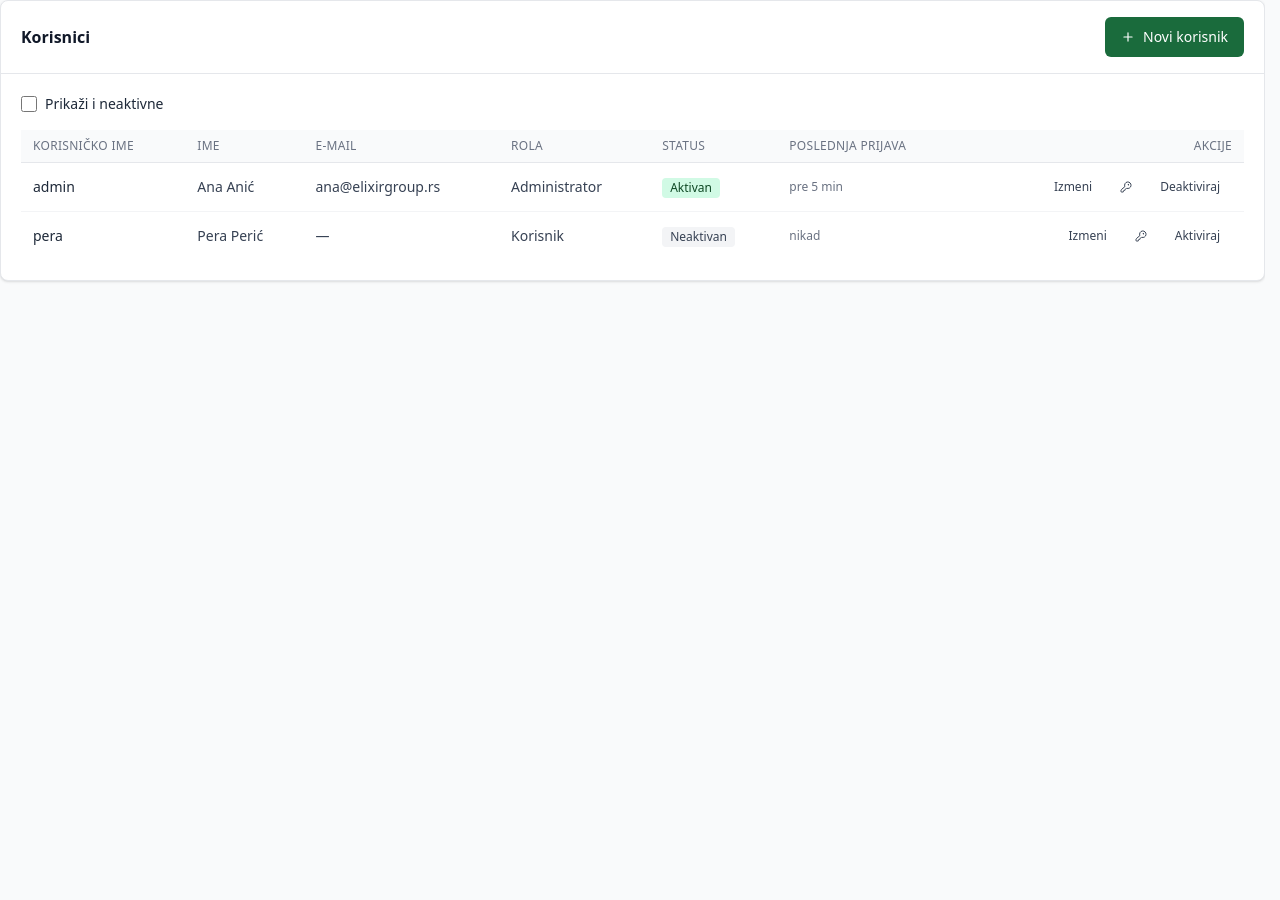
Test: KorisniciPage › „Novi korisnik" otvara formu, a uspešno kreiranje šalje POST i prikazuje toast
Expected: the text "Ana Anić" is shown, [185, 162, 303, 212]
Step 1. Click the button "Novi korisnik" → (1174, 37), box [1105, 17, 1244, 57]
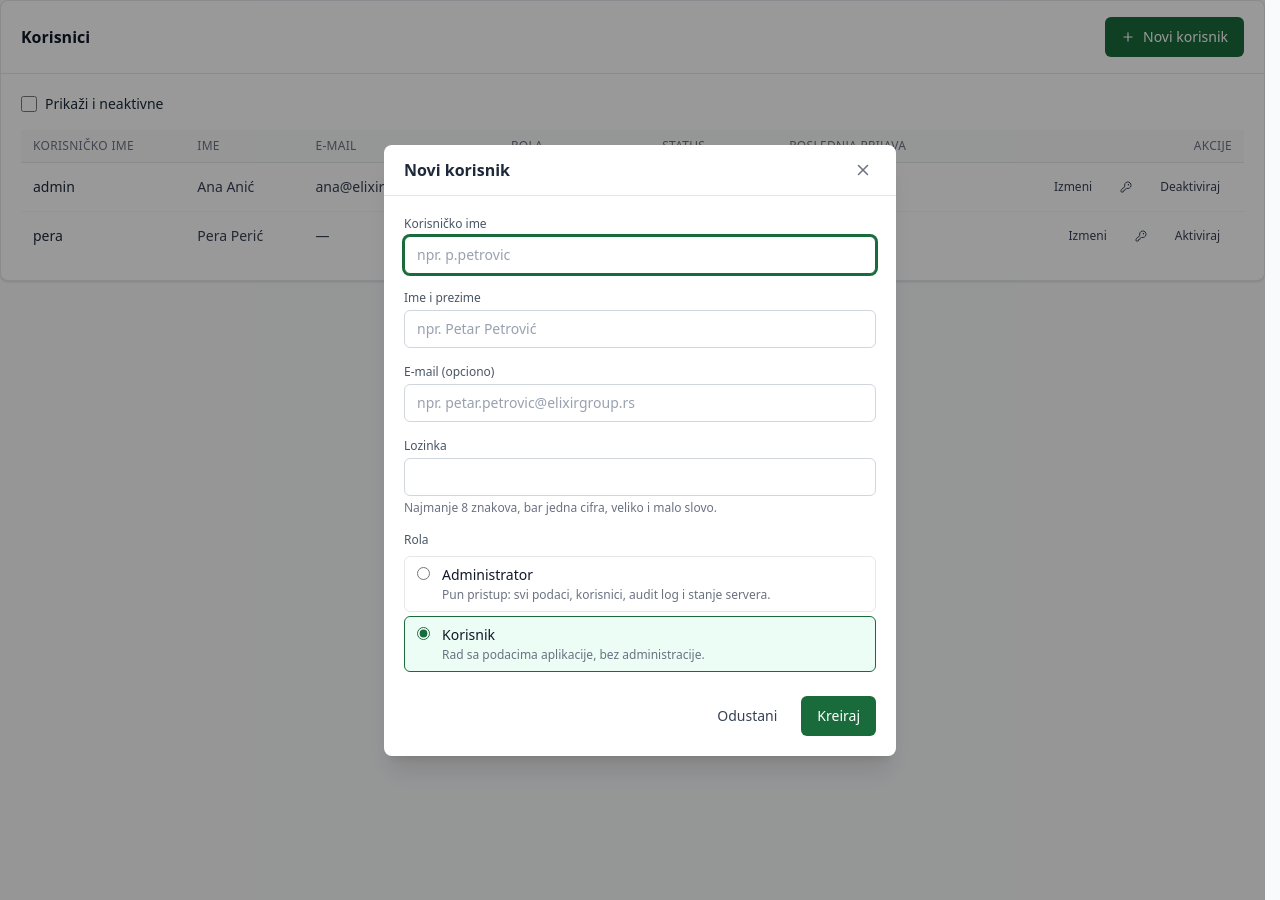
Step 2. Type "mika" into the field labelled "Korisničko ime" → (640, 254), box [404, 236, 876, 274]
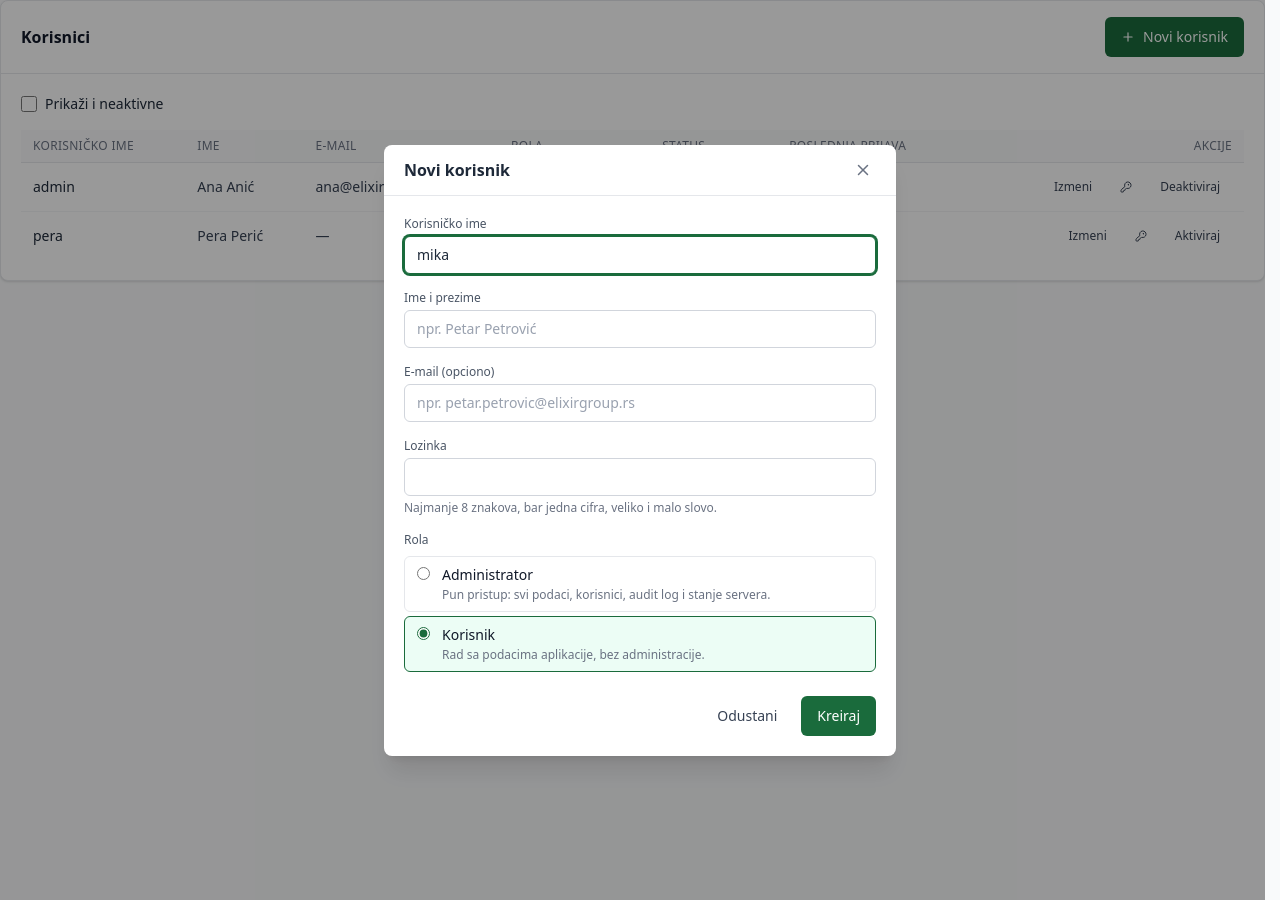
Step 3. Type "Mika Mikić" into the field labelled "Ime i prezime" → (640, 328), box [404, 310, 876, 348]
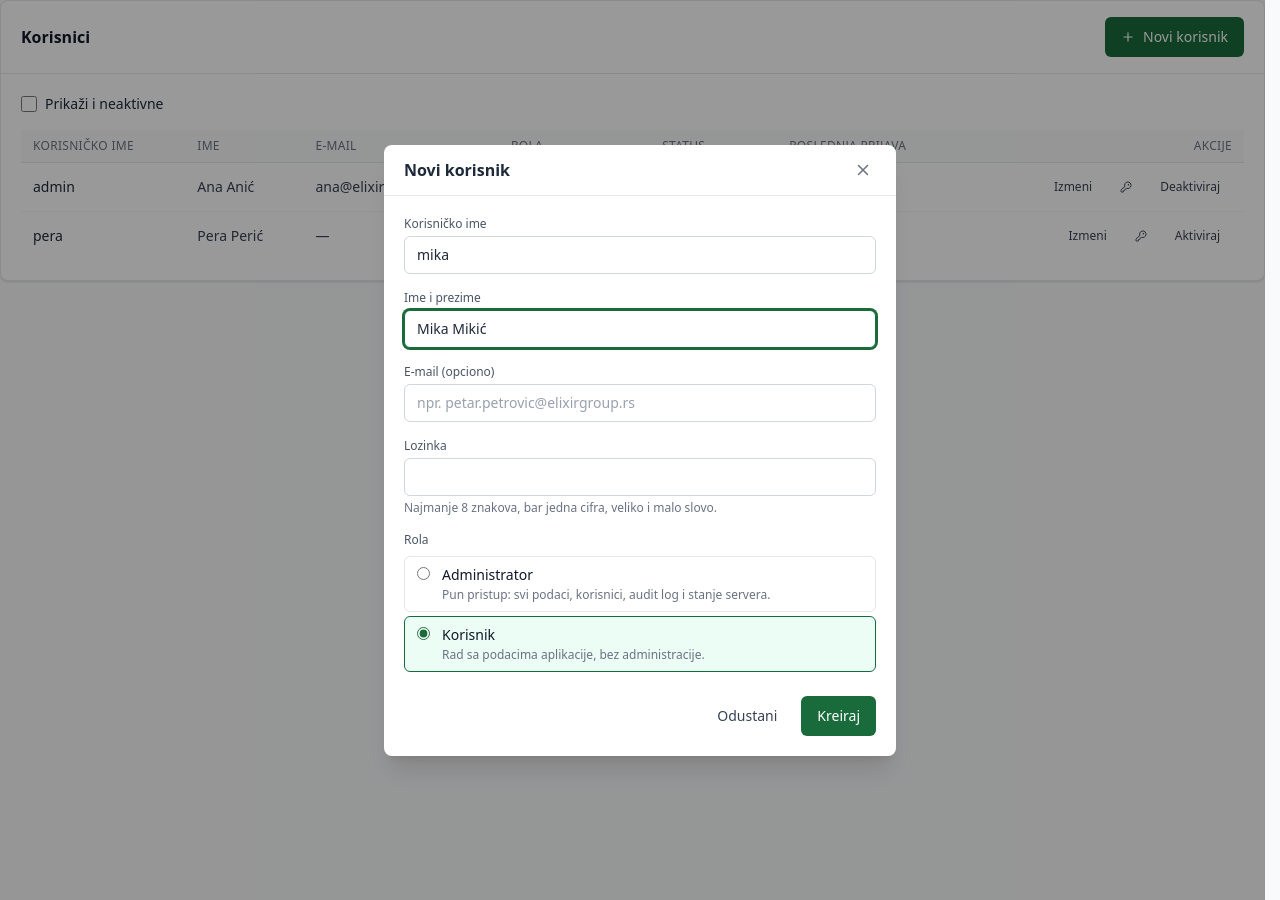
Step 4. Type "Lozinka12" into the password field labelled "Lozinka" → (640, 476), box [404, 458, 876, 496]
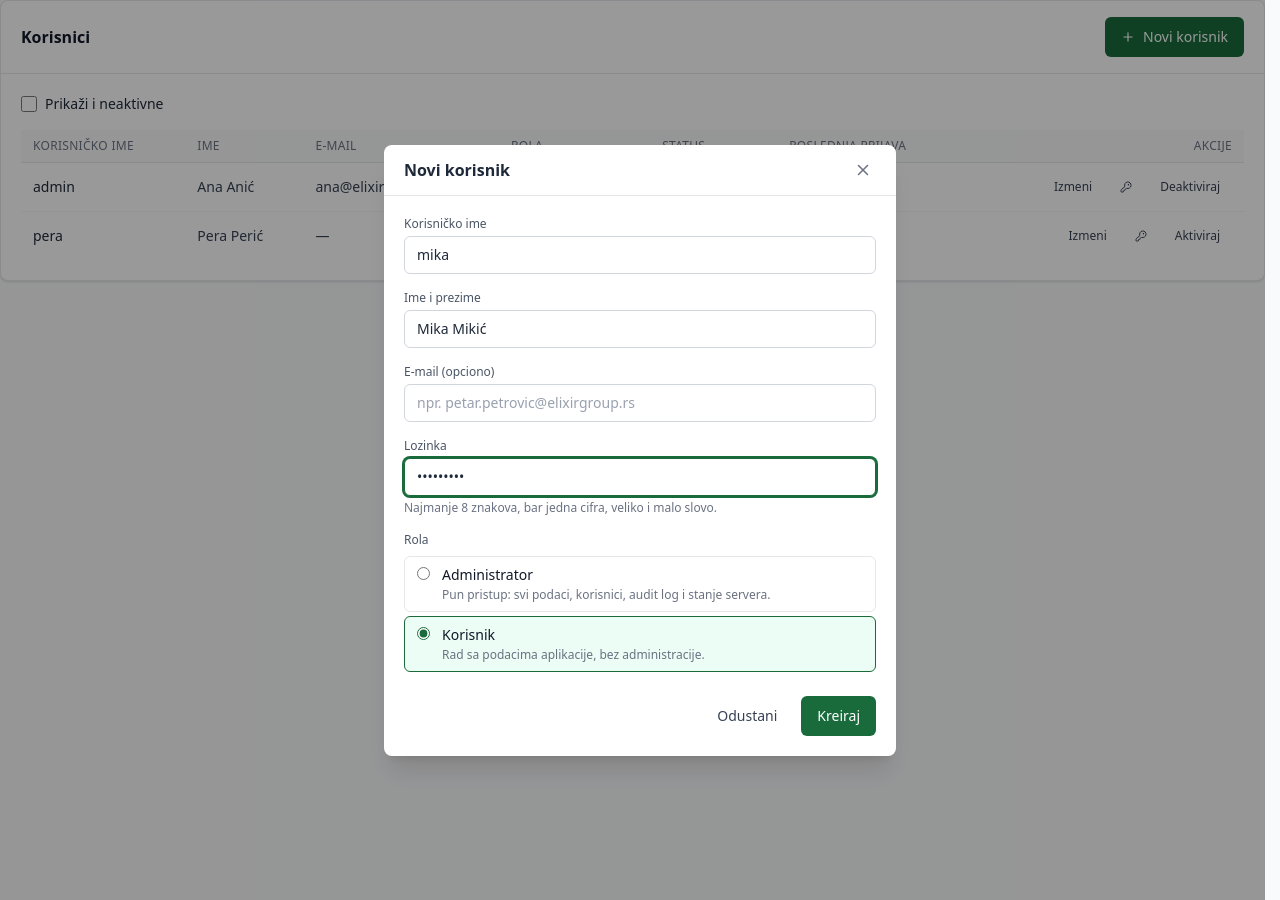
Step 5. Click the button "Kreiraj" → (839, 716), box [801, 696, 876, 736]
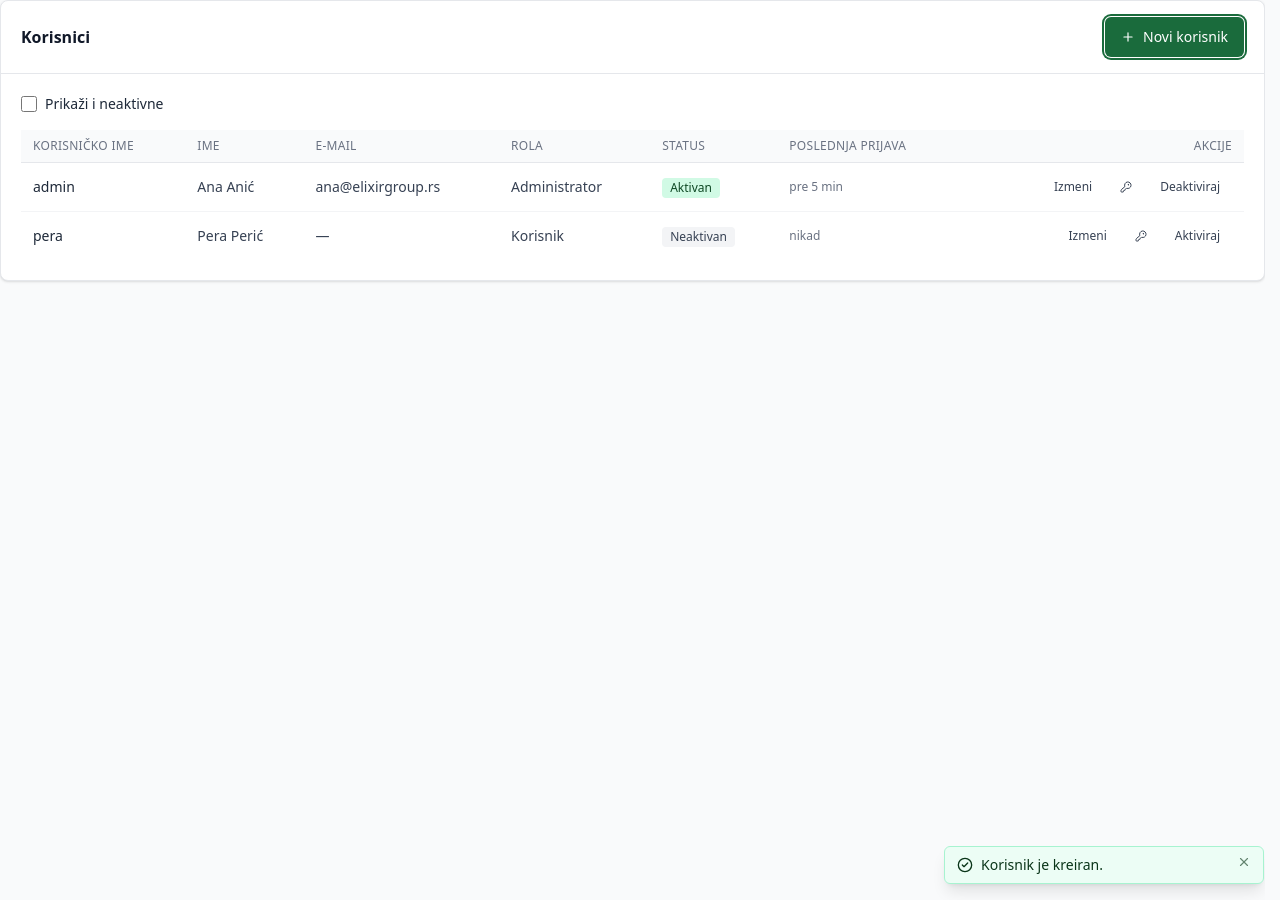
Result: the text "Korisnik je kreiran." is shown at [981, 855, 1103, 874]
